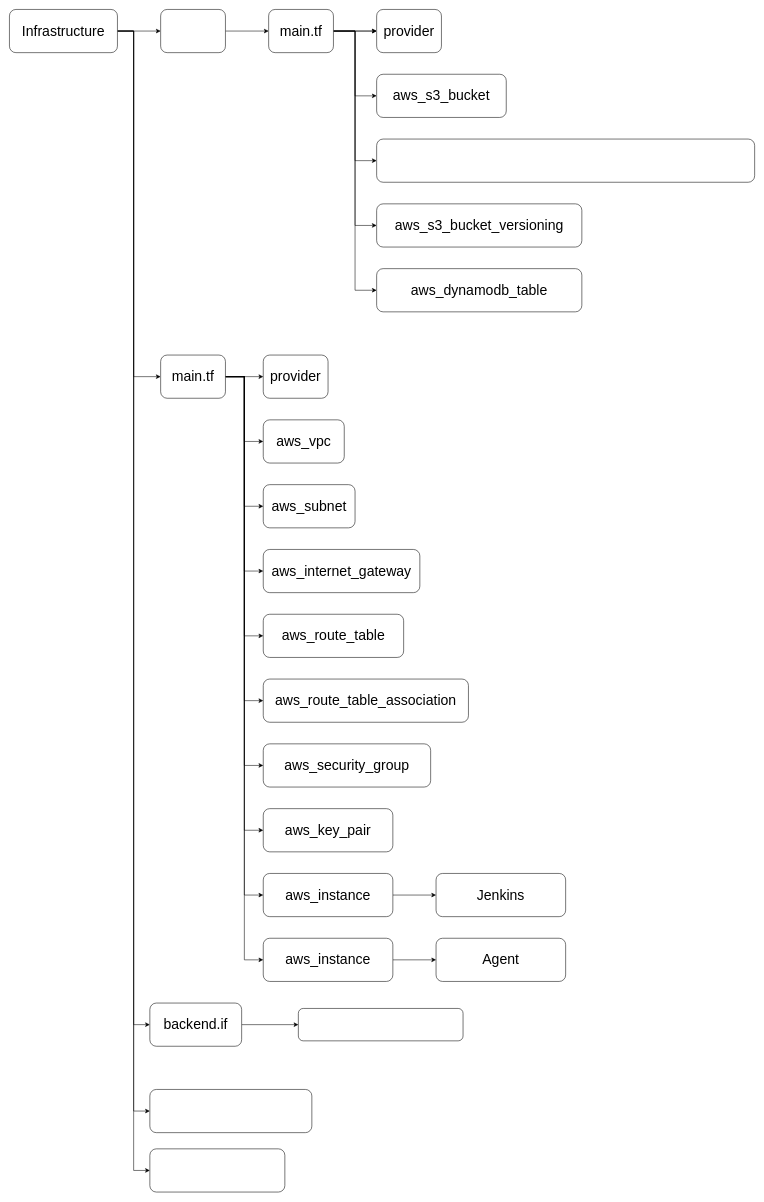
Some shapes in this 764 by 1202 pixel diagram are drawn without their labels. The centre of each missing label's shape, as x and y in pixels:
"aws_s3_bucket_server_side_encryption_configuration" belongs at [565,160].
"Backend" belongs at [192,31].
"terraform, backend s3" belongs at [380,1024].
"userdata_agent.sh" belongs at [217,1170].
"userdata_jenkins.sh" belongs at [230,1111].
